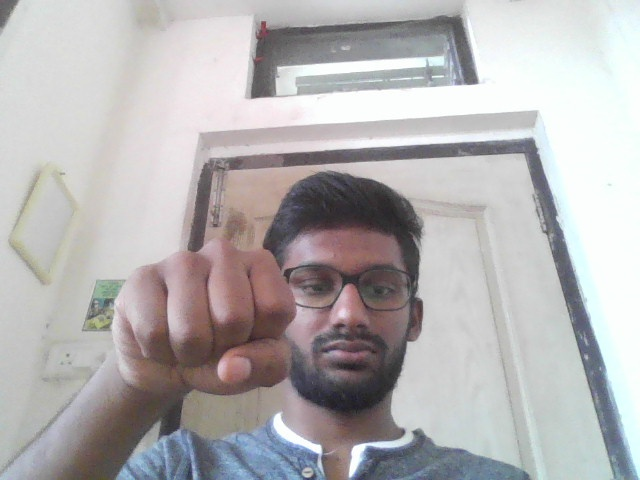No: (95, 234, 299, 400)
